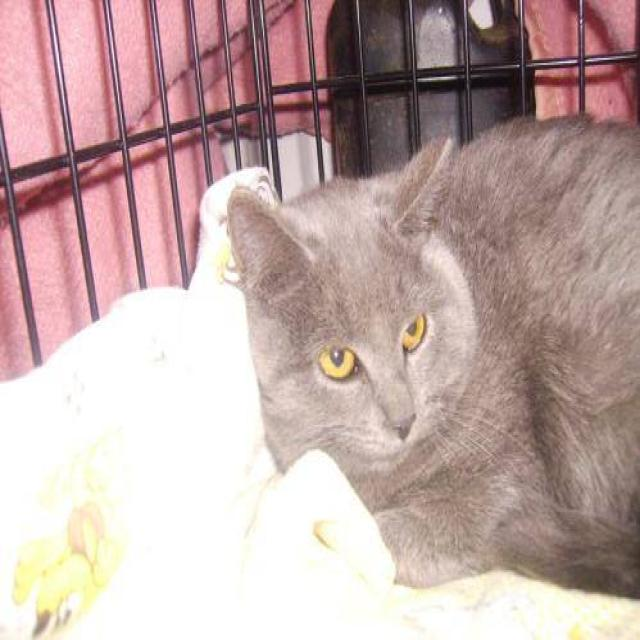cat: (223, 109, 639, 604)
